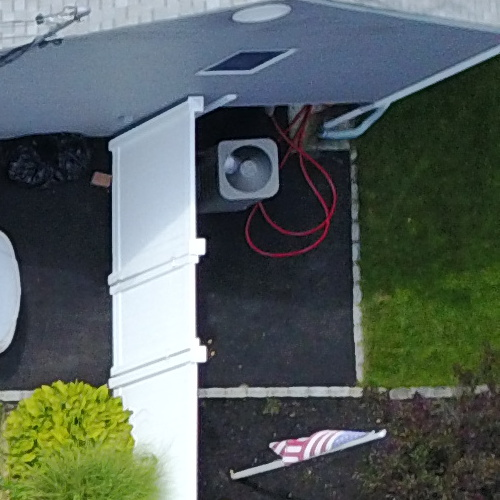air conditioner: (199, 130, 301, 229)
trash: (6, 120, 104, 191)
